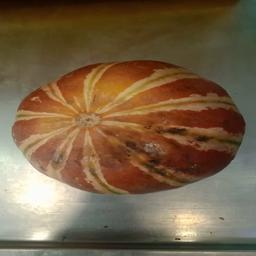Melon Rotten: (7, 41, 256, 203)
